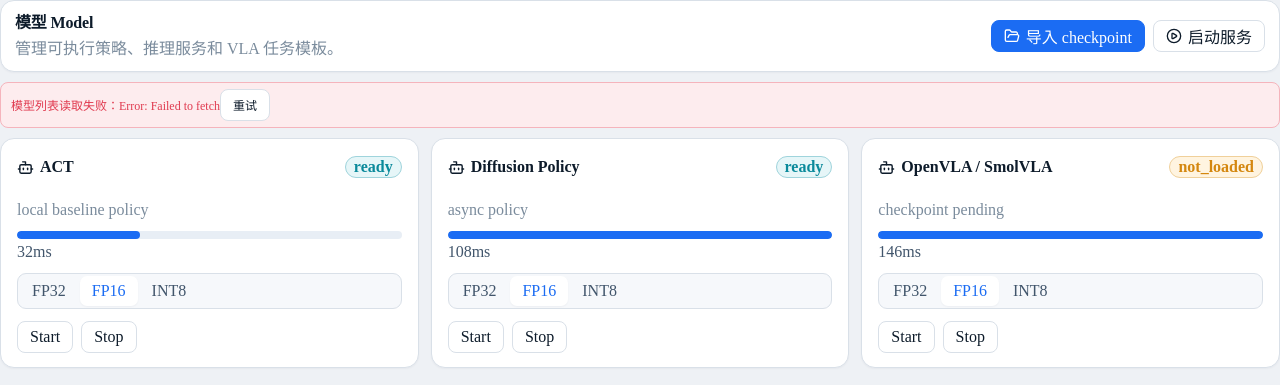
Test case: model 请求生命周期 › 初始网络失败显示可重试错误，不产生未处理拒绝
Expected: the message shows "Failed to fetch", [11,99,220,113]
Click the button "重试" at {"x": 245, "y": 105}, box [220,89,270,121]
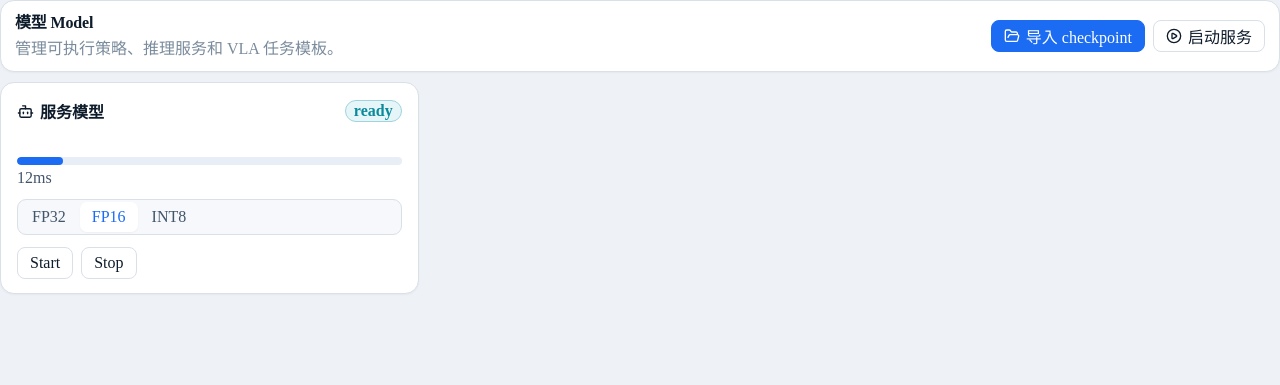
Expected: the message "模型列表读取失败：Error: Failed to fetch 重试" is gone
